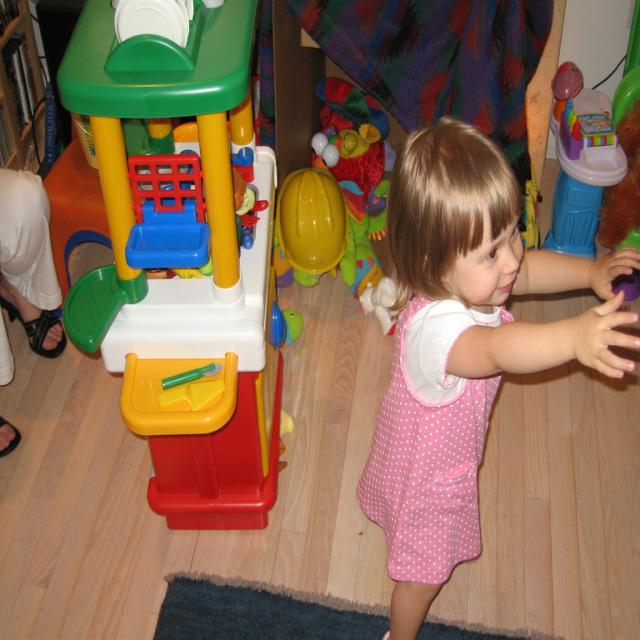Toy: (56, 0, 290, 541), (271, 78, 398, 336), (548, 0, 639, 301), (518, 161, 544, 254), (280, 306, 304, 348)
